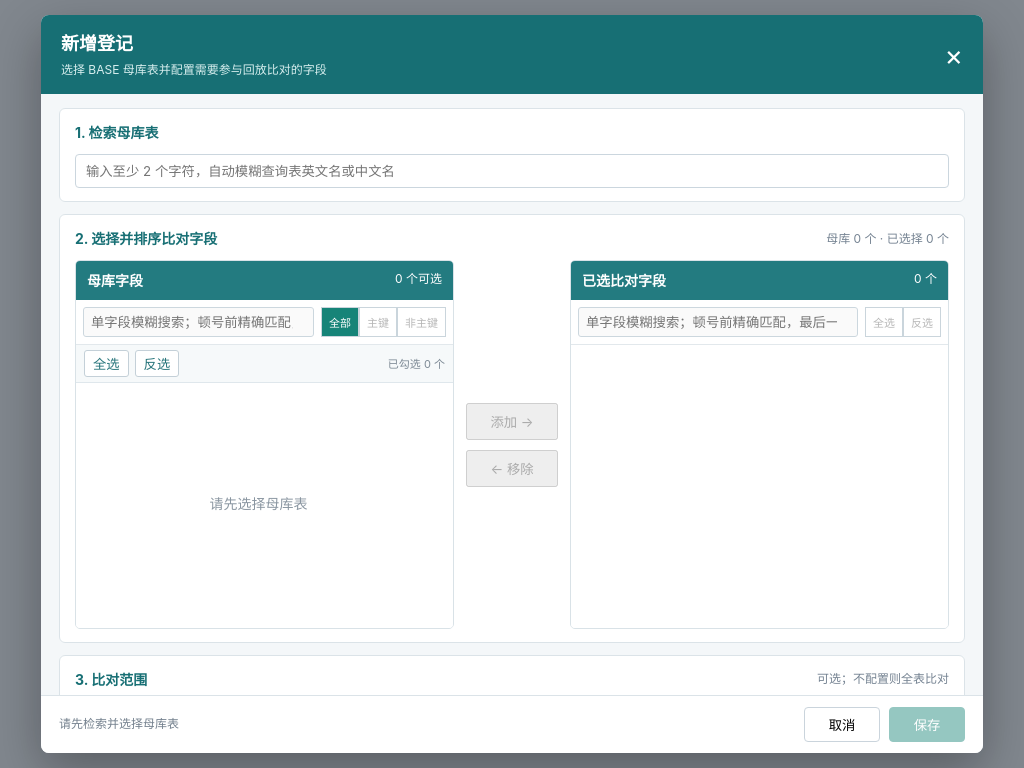
it: ReplayDatabaseComparisonEditor › searches tables automatically after typing and has no search button
Expected: the heading with test id "editor-title" reads "新增登记", 61,33 -> 133,54
Type "冻" into the search field with test id "table-search-input". click: (512, 171)
box: 75,154 -> 949,188
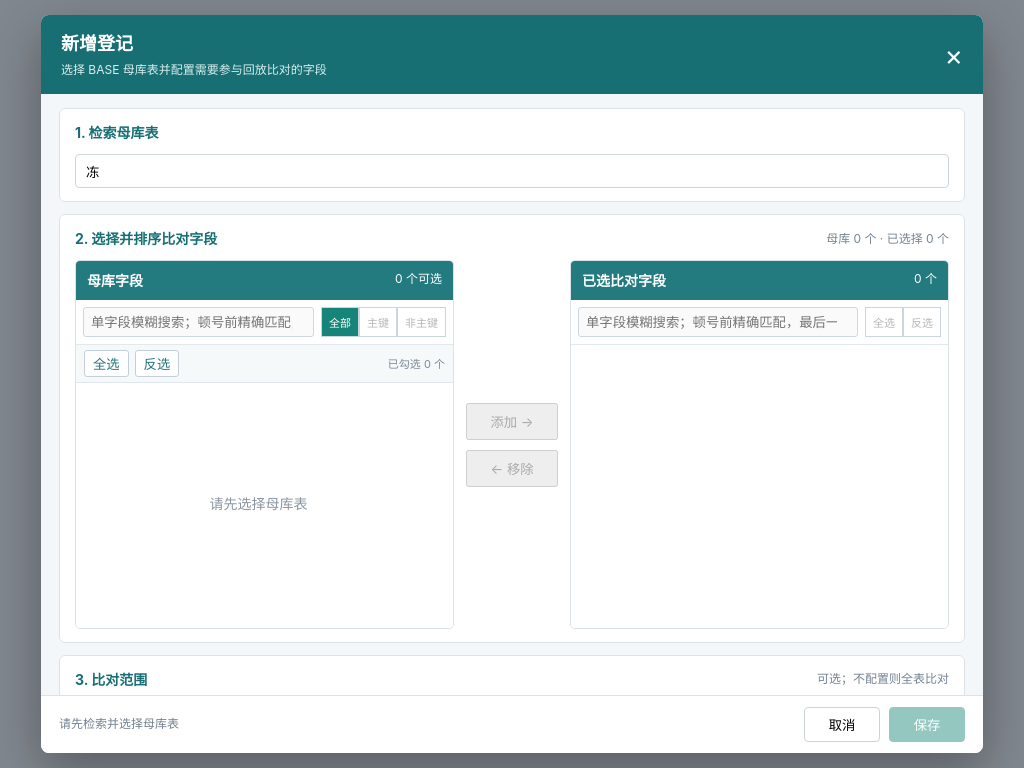
Replace the text in the search field with test id "table-search-input" with "冻结". click: (512, 171)
box: 75,154 -> 949,188
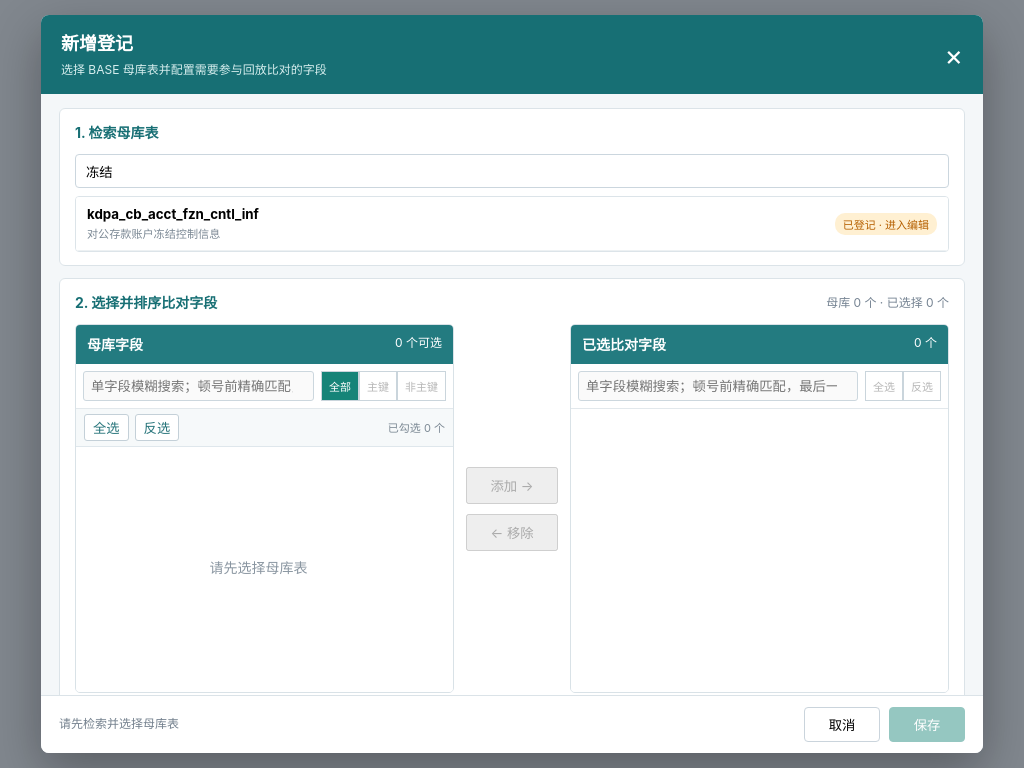
Result: the button with test id "table-search-result" is shown at 76,197 -> 948,251
